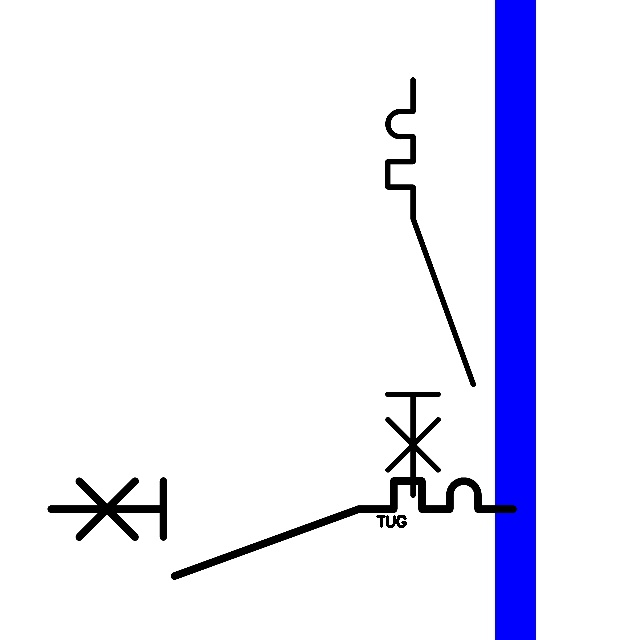interruptor_termomagnetico: (39, 469, 525, 588), (377, 69, 484, 506)
